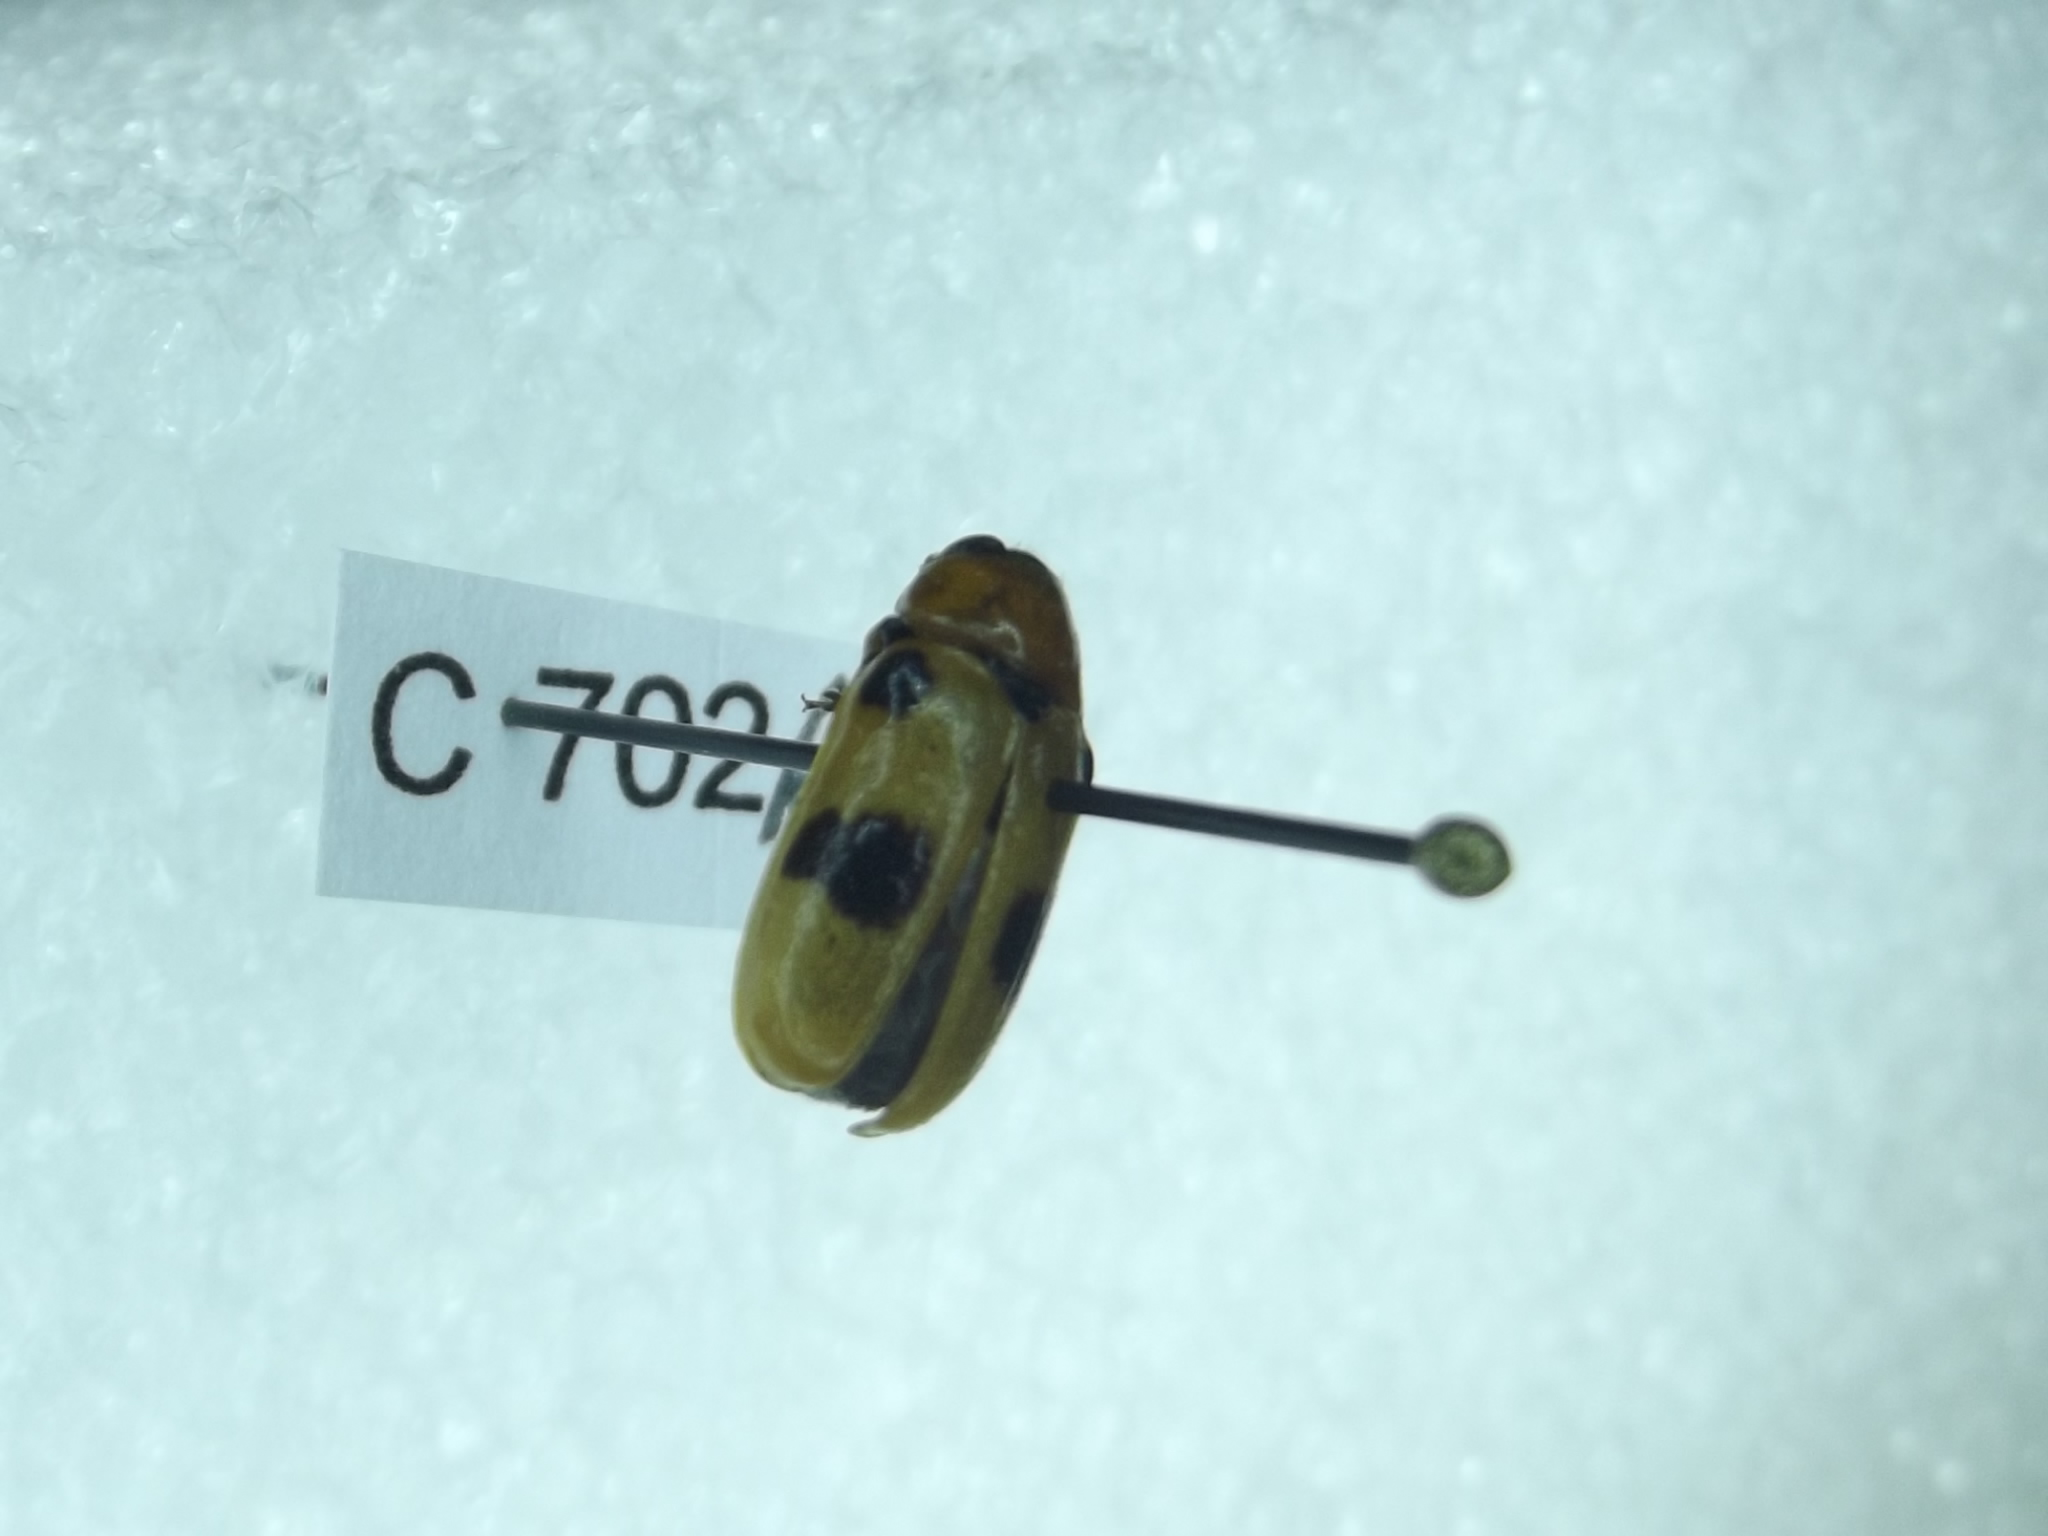Tituboea_macropus: (727, 510, 1101, 1170)
